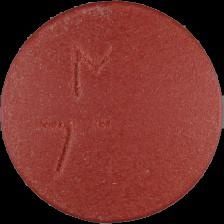54868-0826: (0, 0, 224, 224)
